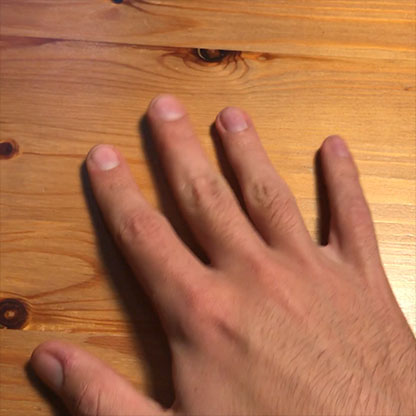fingertip: (144, 84, 191, 130), (315, 127, 363, 172), (209, 99, 262, 139), (79, 136, 127, 180)
